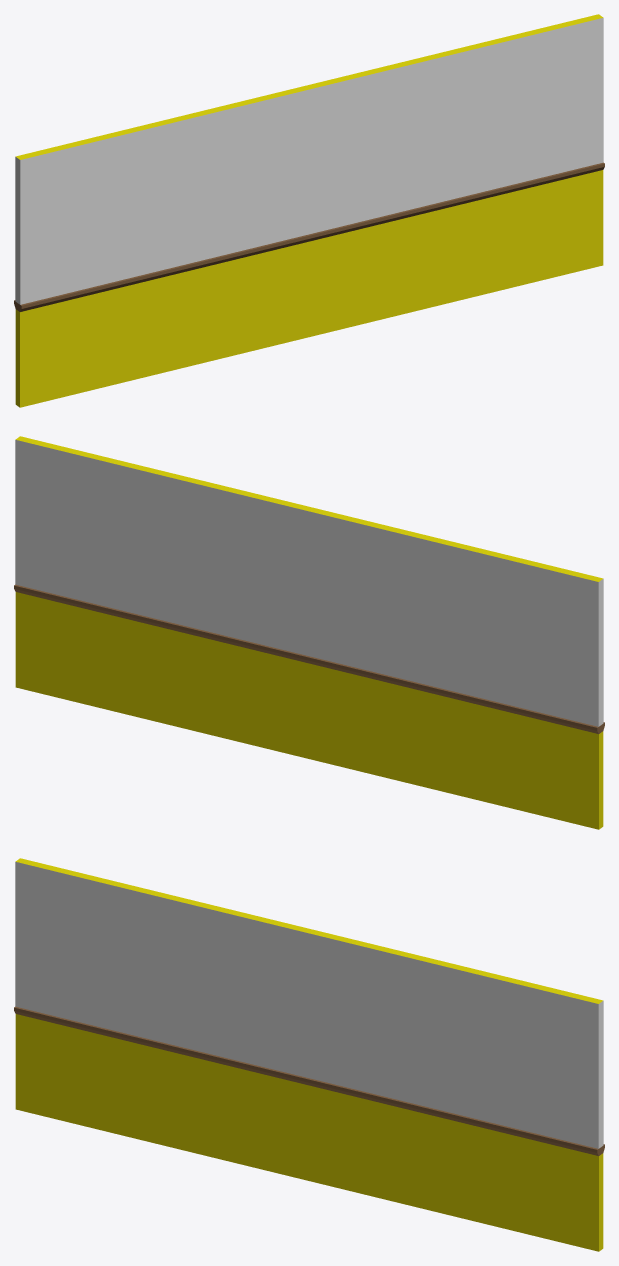
Rendered from Wall.fbx.
The picture shows the model from 3 angles, top to bottom: view 1: azimuth 30°, elevation 25°; view 2: azimuth 150°, elevation 25°; view 3: azimuth 330°, elevation 25°; orthographic projection.
Visible parts, largest first — view 1: Cube.001; view 2: Cube.001; view 3: Cube.001.
Part boxes in pixels (x1,y1,x2,y2): Cube.001: (14, 14, 604, 407); Cube.001: (14, 436, 604, 829); Cube.001: (14, 858, 604, 1251).
Bounding box in the file's own units: 1540 × 625 × 34.81.
